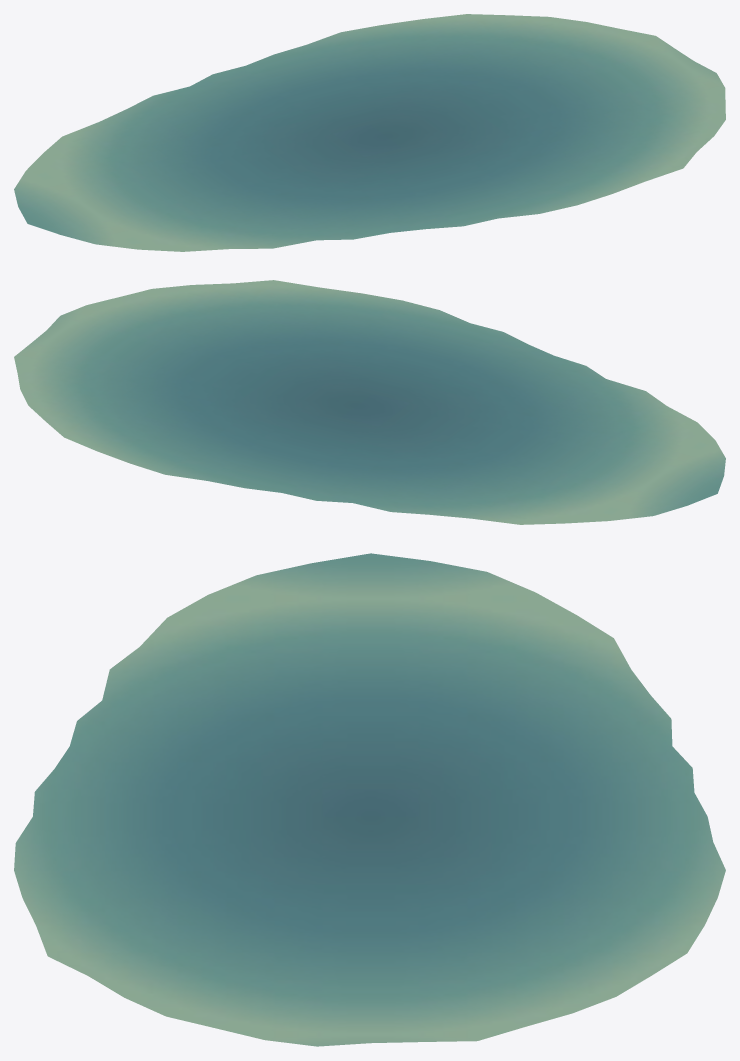
Rendered from PondWater.glb.
3 renders of one model, top to bottom at view 1: azimuth 30°, elevation 25°; view 2: azimuth 150°, elevation 25°; view 3: azimuth 270°, elevation 25°, orthographic. The views are drawn at different scales.
Visible parts, largest first — view 1: PondWater; view 2: PondWater; view 3: PondWater.
Part boxes in pixels (<box>): PondWater: <box>14,14,725,251</box>; PondWater: <box>14,280,725,524</box>; PondWater: <box>14,553,725,1046</box>.
Bounding box in the file's own units: 3.62 × 0 × 2.21.
Materials: 1 (1 with a texture image).
